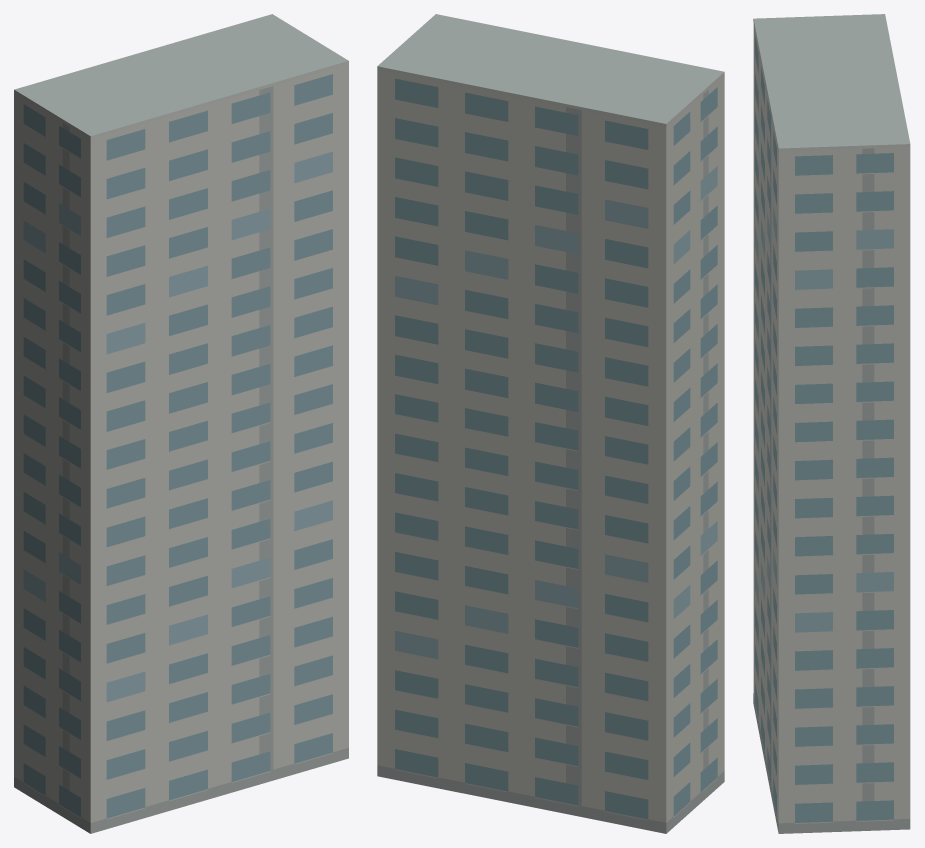
Rendered from residential-d04fd722-6bb3-408e-b445-edd4d4d9d502.glb.
3 views of the same model, side by side, from view 1: azimuth 30°, elevation 25°; view 2: azimuth 150°, elevation 25°; view 3: azimuth 270°, elevation 25° (orthographic). The views are drawn at different scales.
Visible parts, largest first — view 1: residential-d04fd722-6bb3-408e-b445-edd4d4d9d502.tmp; view 2: residential-d04fd722-6bb3-408e-b445-edd4d4d9d502.tmp; view 3: residential-d04fd722-6bb3-408e-b445-edd4d4d9d502.tmp.
Boxes of the visible parts, x1,y1,x2,y2 form: residential-d04fd722-6bb3-408e-b445-edd4d4d9d502.tmp: (14,14,348,833); residential-d04fd722-6bb3-408e-b445-edd4d4d9d502.tmp: (377,14,724,833); residential-d04fd722-6bb3-408e-b445-edd4d4d9d502.tmp: (753,14,910,833).
Bounding box in the file's own units: 23.12 × 54.9 × 11.4.
